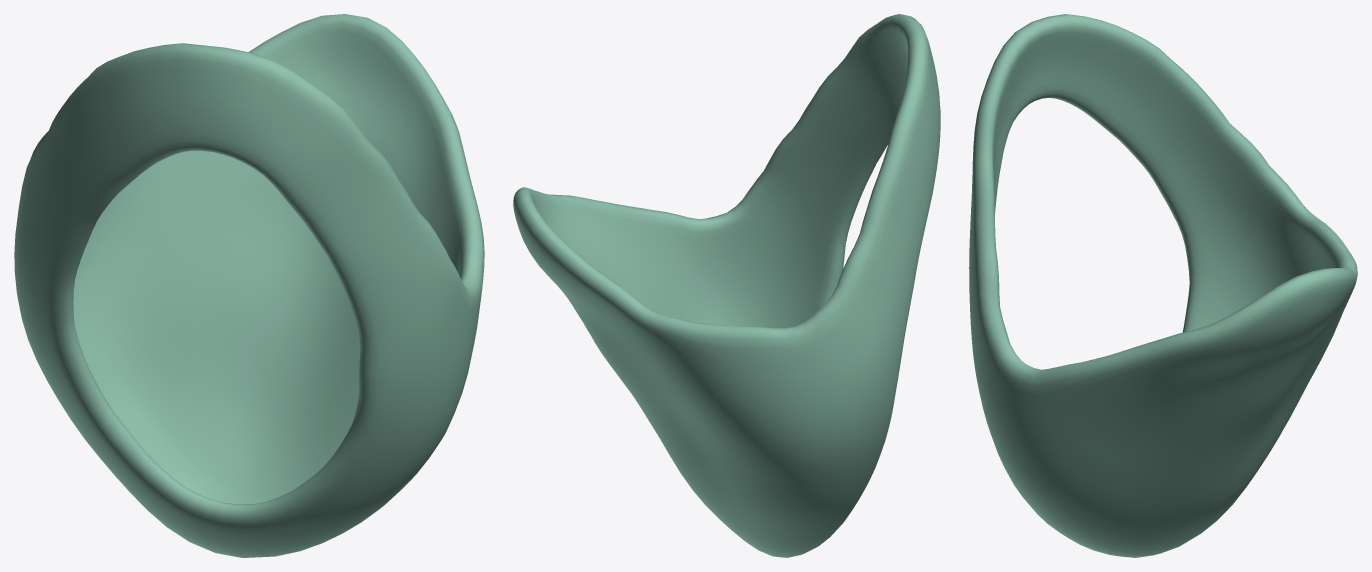
File: TL3_Frame_Classic.001 2.glb
3 views of the same model, side by side, from view 1: azimuth 30°, elevation 25°; view 2: azimuth 150°, elevation 25°; view 3: azimuth 270°, elevation 25° (orthographic). The views are drawn at different scales.
Parts seen in each view (by area): view 1: TL3_Frame_Classic.001; view 2: TL3_Frame_Classic.001; view 3: TL3_Frame_Classic.001.
Boxes of the visible parts, box(x1,y1,x2,y2) form: TL3_Frame_Classic.001: box(14, 14, 484, 557); TL3_Frame_Classic.001: box(513, 14, 940, 557); TL3_Frame_Classic.001: box(969, 14, 1357, 557).
Bounding box in the file's own units: 0.814 × 1.09 × 0.7826.
